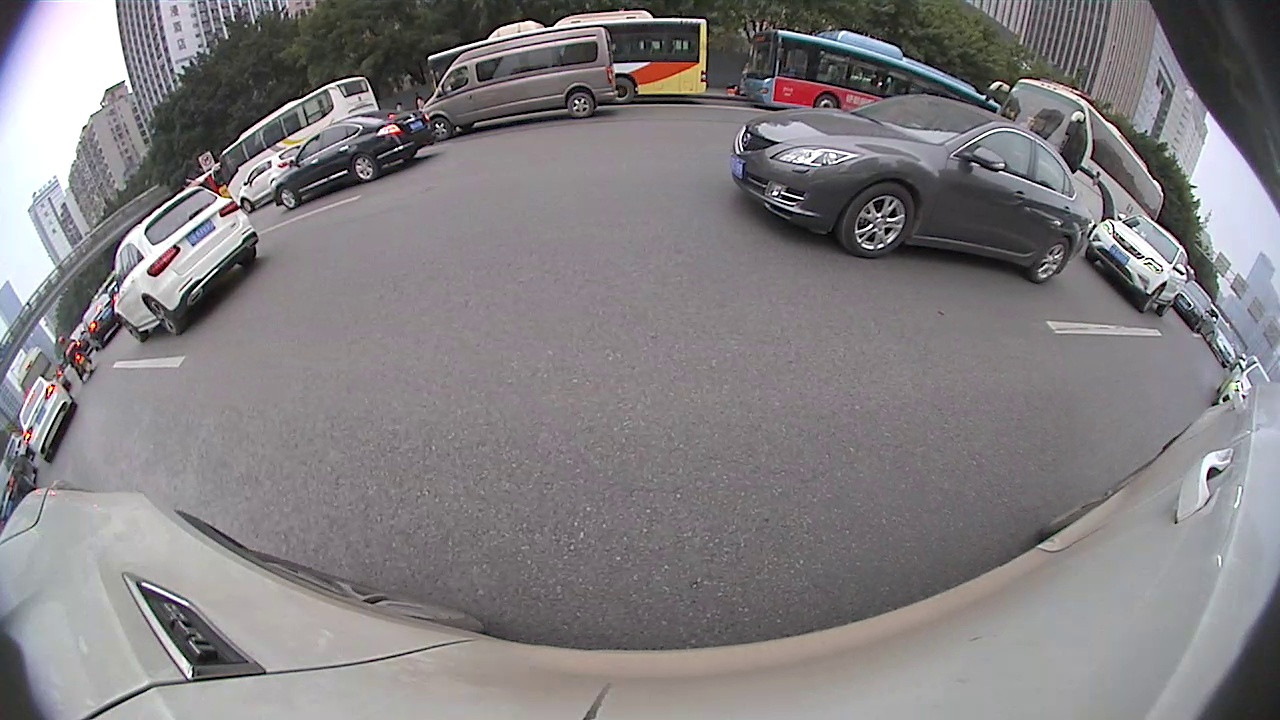bus: (431, 7, 707, 107), (988, 72, 1167, 225), (424, 7, 708, 101), (739, 17, 1006, 115), (209, 74, 377, 204), (14, 349, 68, 400)
car: (729, 89, 1088, 286), (109, 186, 260, 344), (424, 25, 618, 144), (268, 105, 431, 212), (1085, 209, 1192, 319), (17, 374, 76, 460), (240, 143, 304, 215), (1216, 356, 1271, 429), (1, 450, 43, 518), (1176, 278, 1215, 343), (79, 293, 121, 349), (1206, 317, 1241, 364)
front: (838, 179, 915, 257), (120, 315, 150, 341), (1137, 284, 1164, 311), (429, 115, 450, 141), (276, 185, 300, 207), (815, 94, 839, 111), (240, 198, 253, 211)
rear: (1030, 239, 1073, 285), (147, 295, 187, 335), (351, 154, 379, 181), (566, 93, 596, 118), (613, 78, 632, 103), (1157, 294, 1179, 315)
rider: (60, 335, 95, 383)
